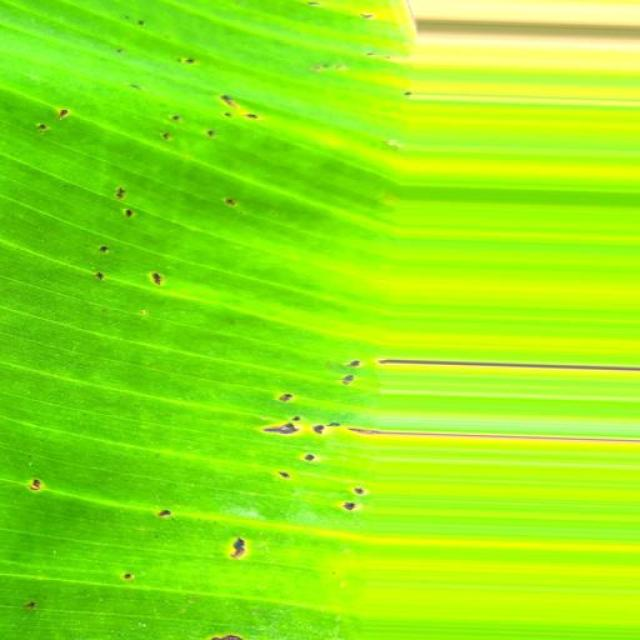Black_rot: (203, 340, 640, 612), (28, 7, 272, 316), (18, 403, 180, 633)
